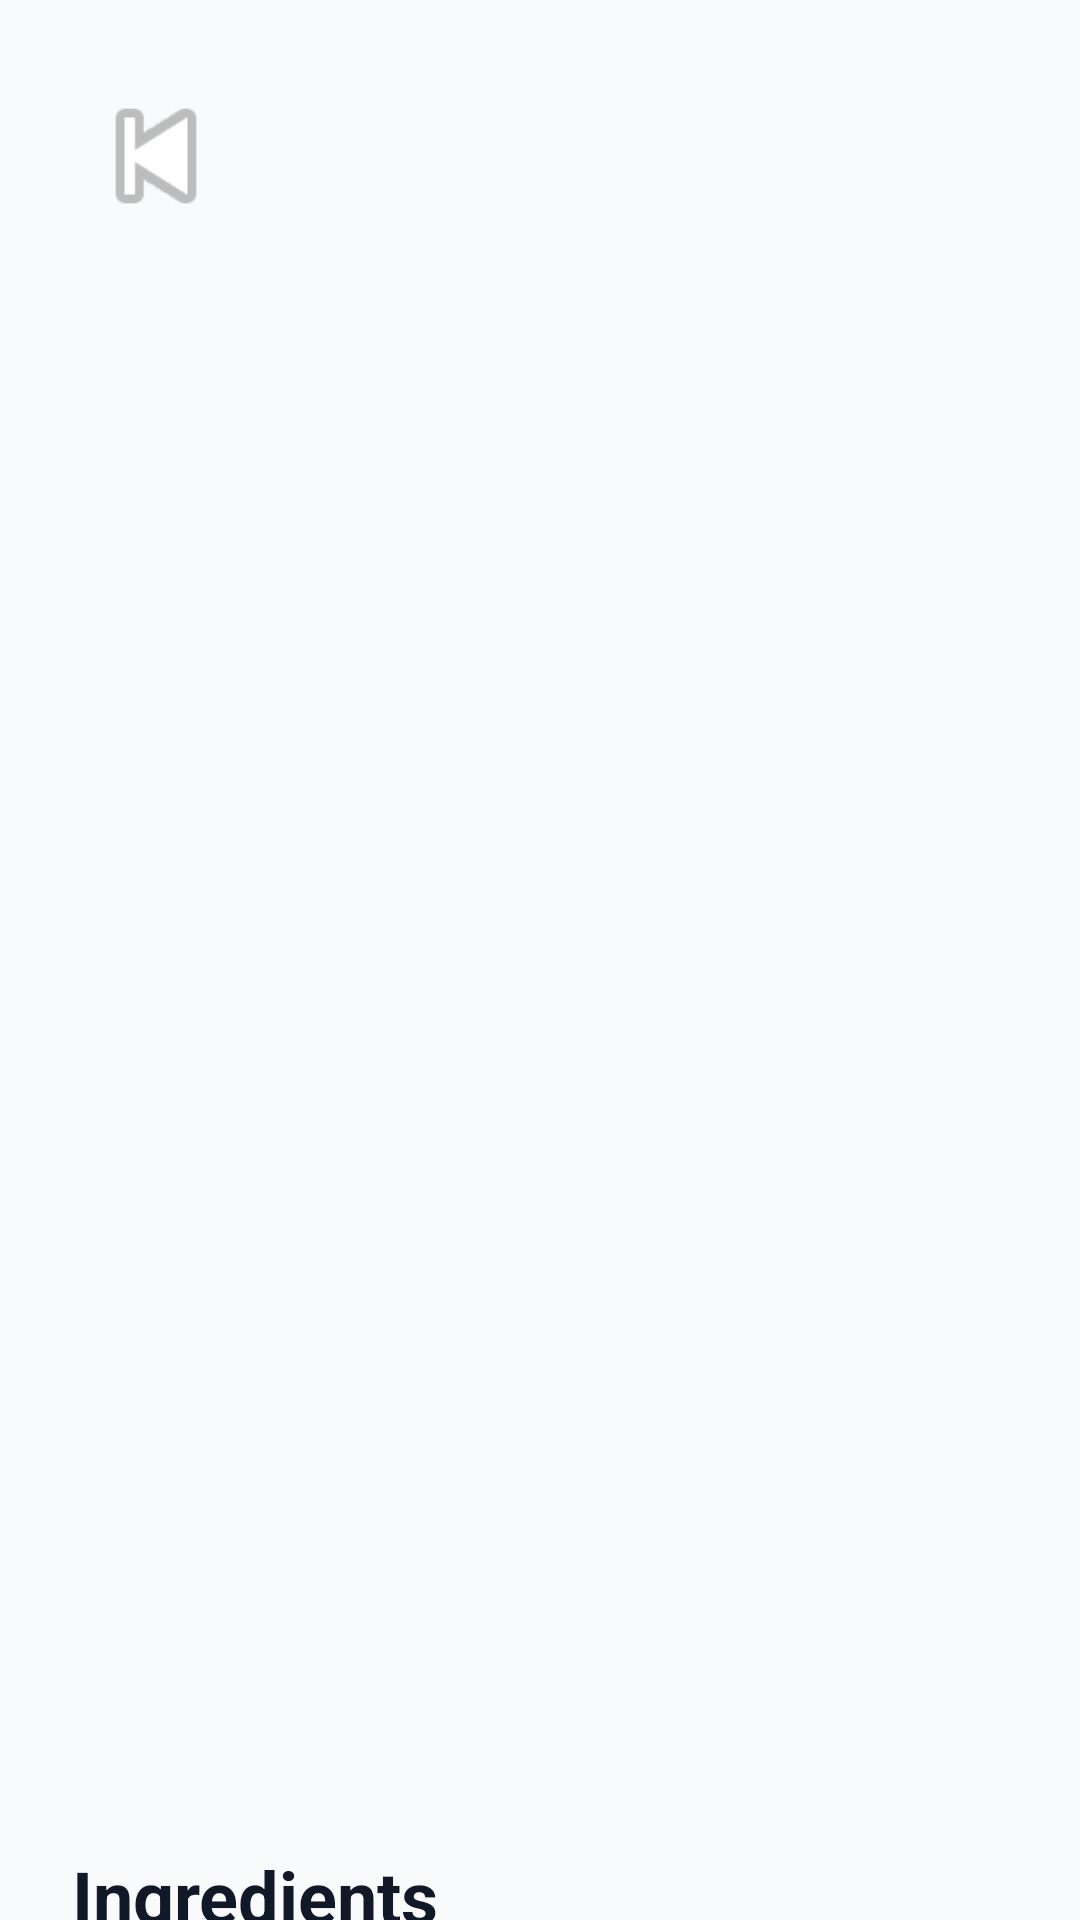

Icons on this 1080w x 1920h Android screen, each with the point to tap as (x=x, y=y):
Back: (x=156, y=156)
